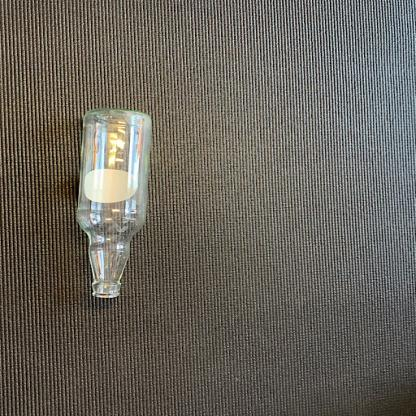trash: (73, 110, 154, 300)
